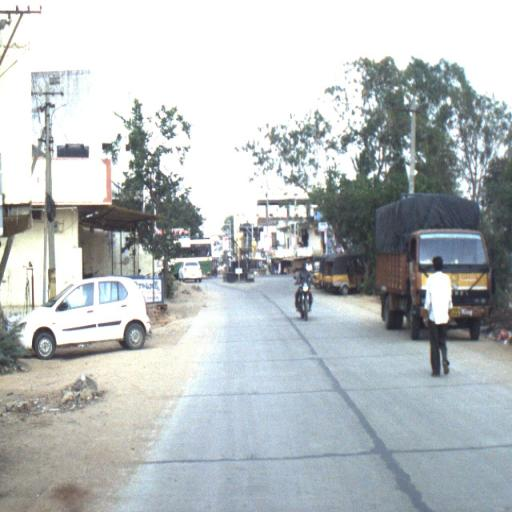street_light_0: (44, 102, 68, 134)
